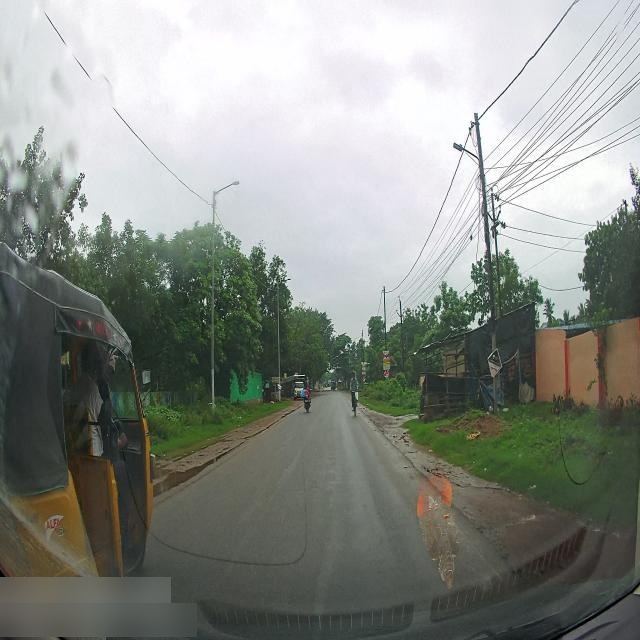pothole: (156, 450, 233, 498)
